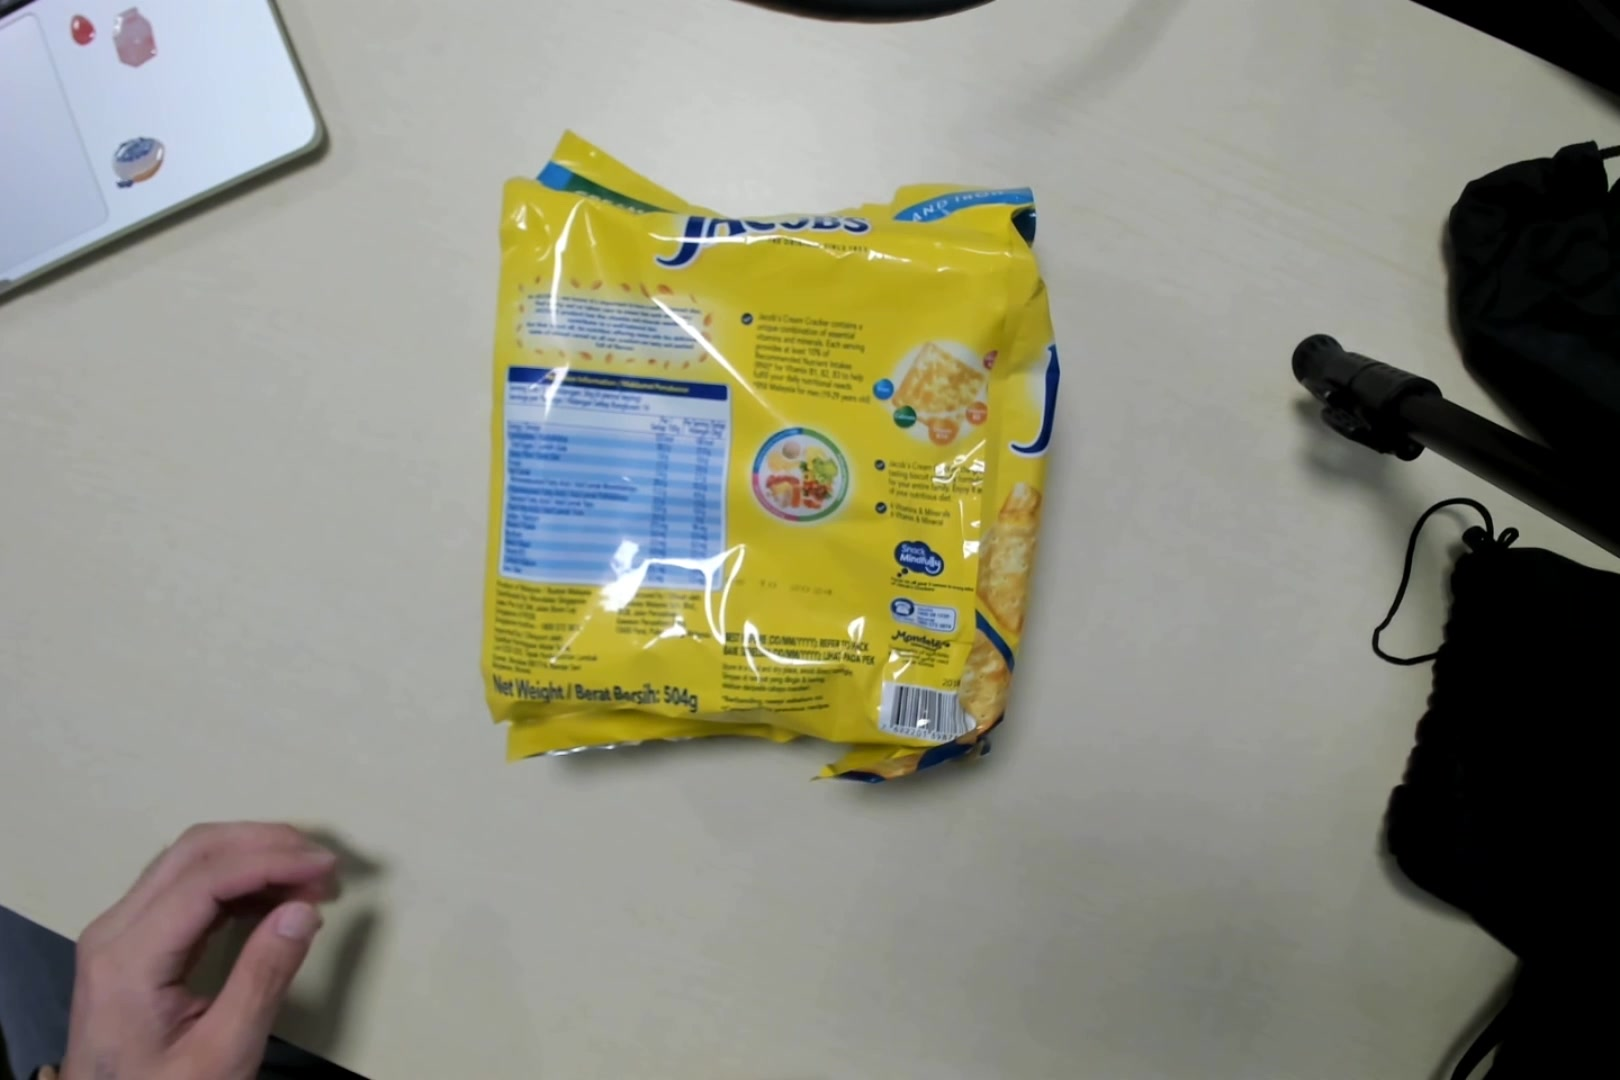BiscuitCrackersCookies_500-599g_Halal_NonHealthy: (492, 131, 1064, 790)
